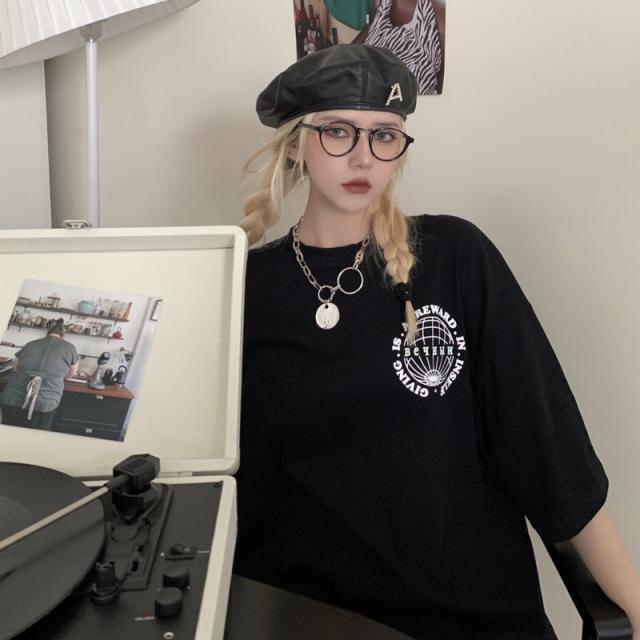Shirt: (205, 208, 612, 639)
